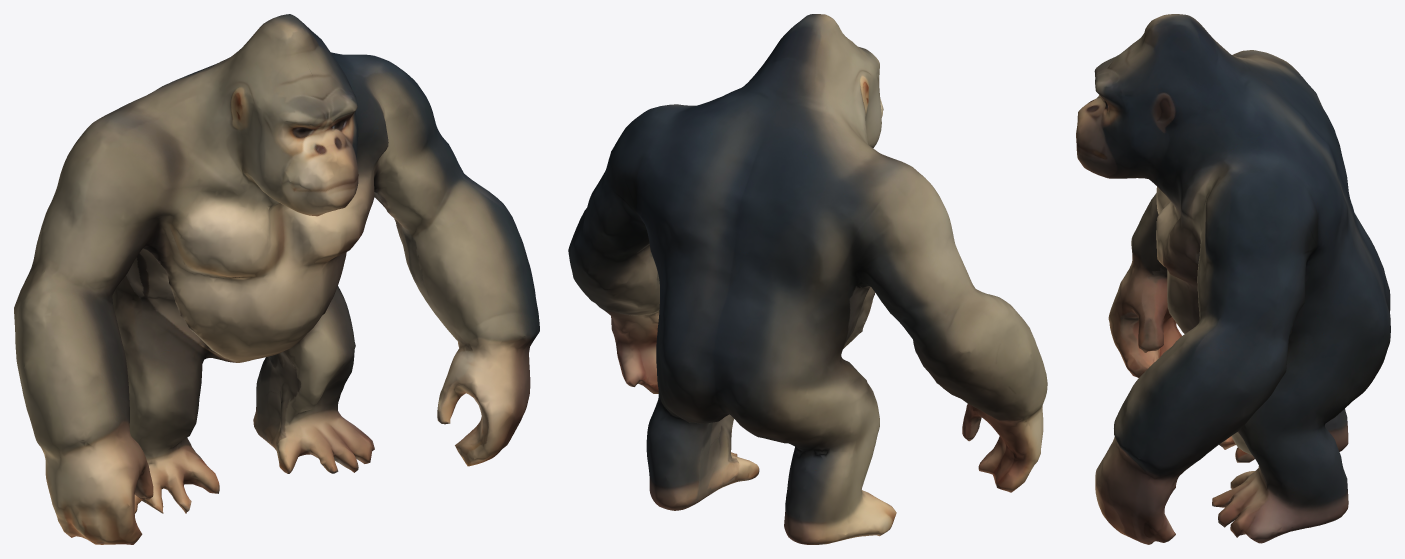
The model's file is KingKong.glb.
3 views of the same model, side by side, from view 1: azimuth 30°, elevation 25°; view 2: azimuth 150°, elevation 25°; view 3: azimuth 270°, elevation 25° (orthographic). The views are drawn at different scales.
Size of the model in its own units: 1.2 by 1.17 by 0.7062.
1 material, 1 textured.
